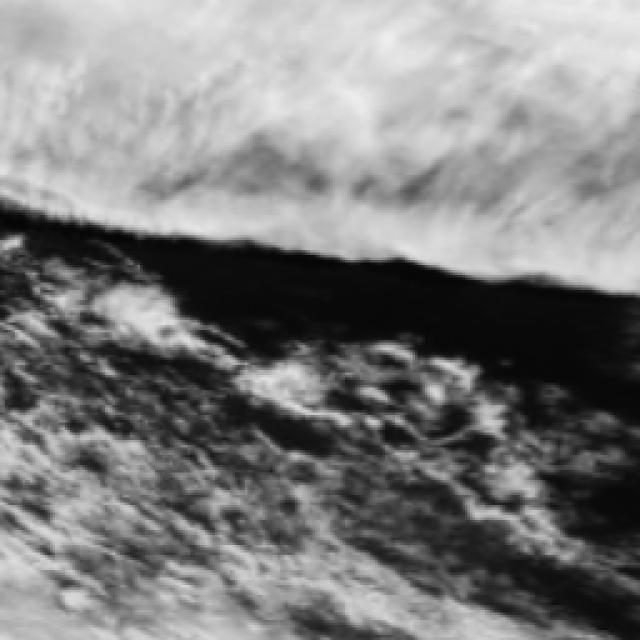CB: (42, 1, 640, 103)
